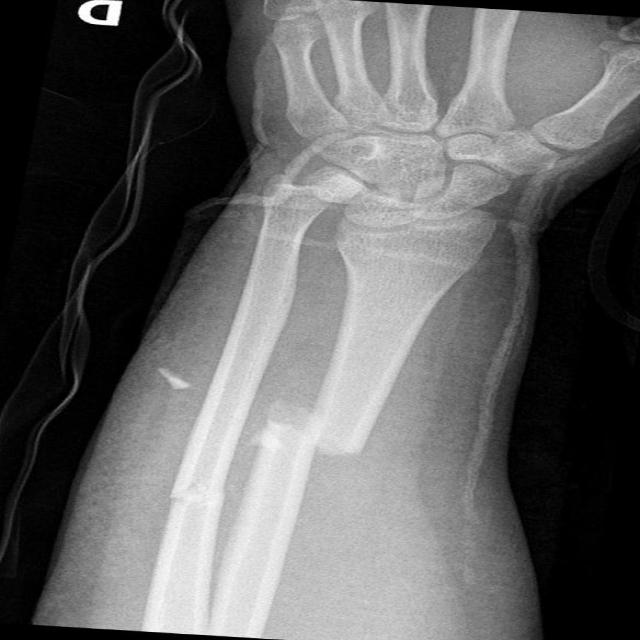Transverse: (250, 399, 392, 472)
Transverse Displaced: (154, 463, 240, 519)
